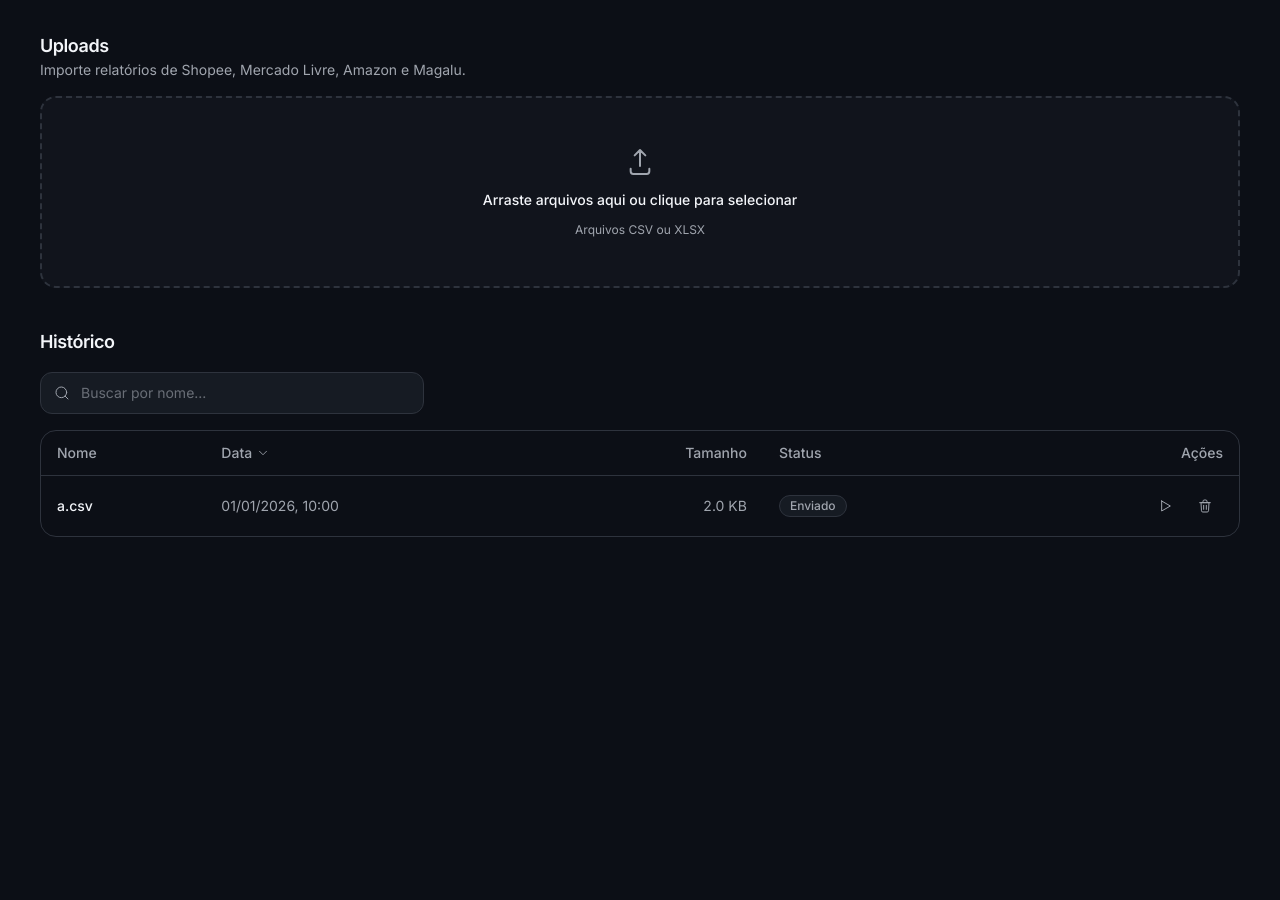
UploadsPage › deletes an upload after confirming the dialog
Expected: the link "a.csv" is shown, [57,497,93,514]
Click the button named "Excluir a.csv".
click(1205, 506)  # box [1187,488,1223,524]
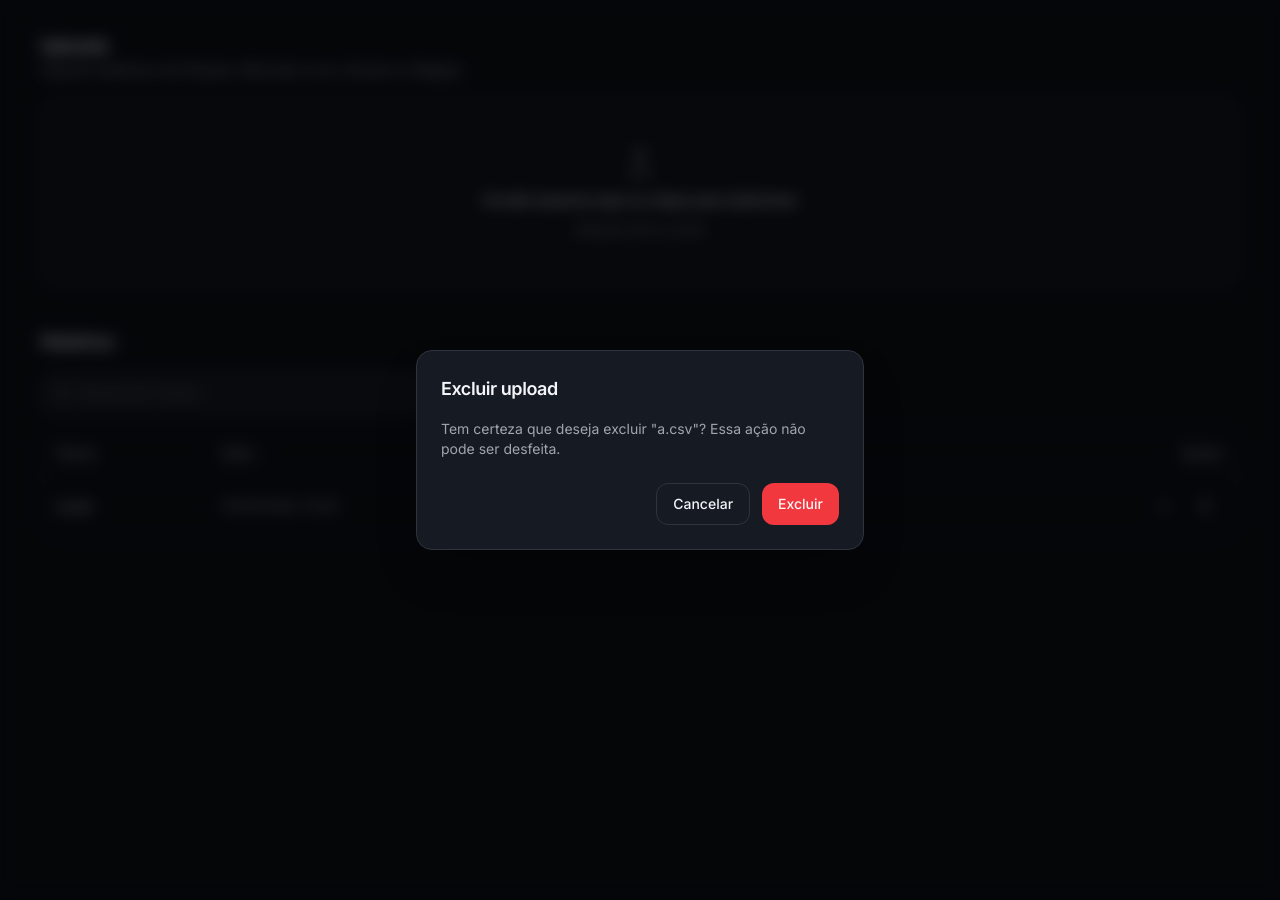
Expected: the dialog "Excluir upload" is shown, [416,350,864,550]
Click the button "Excluir".
click(801, 504)  # box [762,483,839,525]
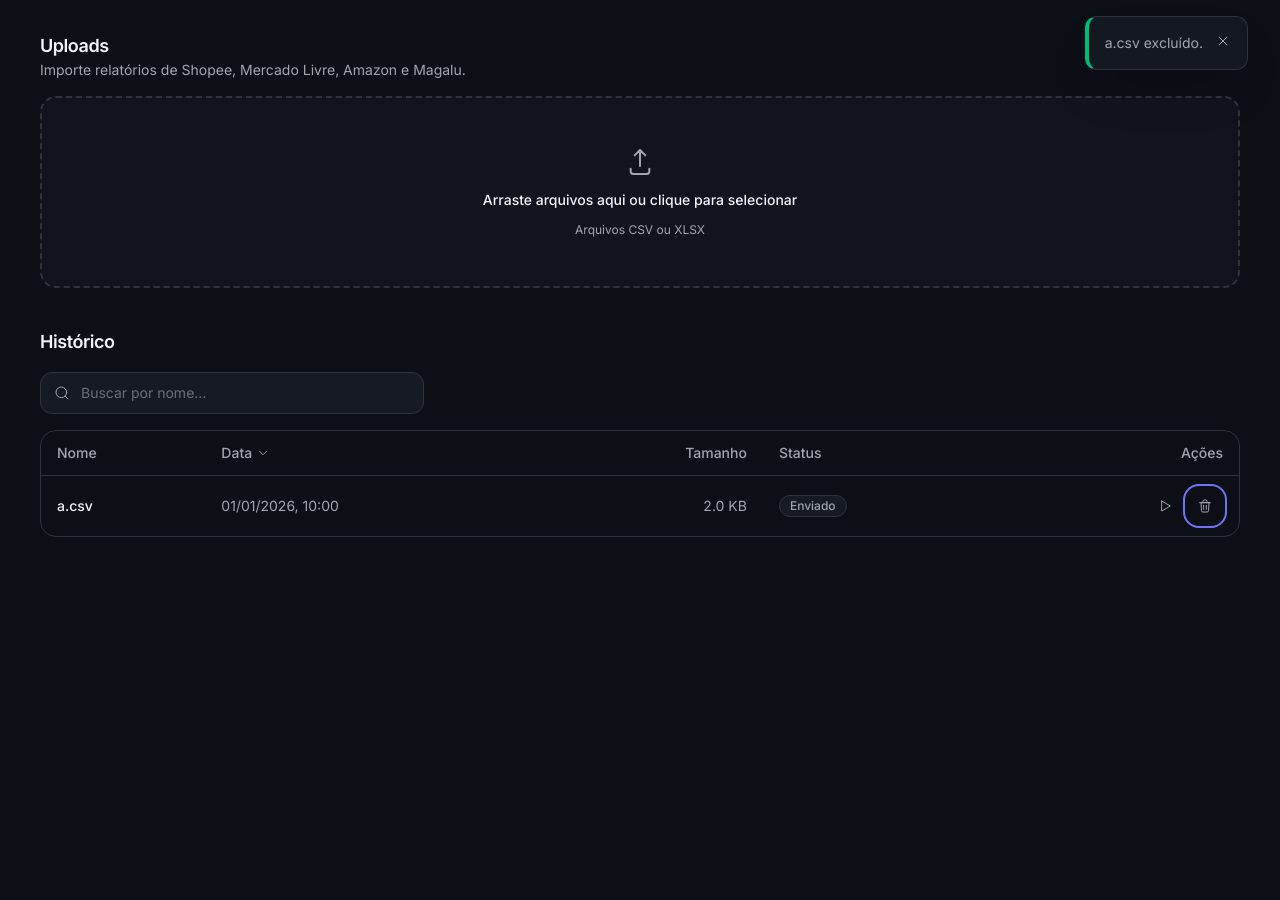
Expected: the text "a.csv excluído." is shown, [1105,33,1203,53]
